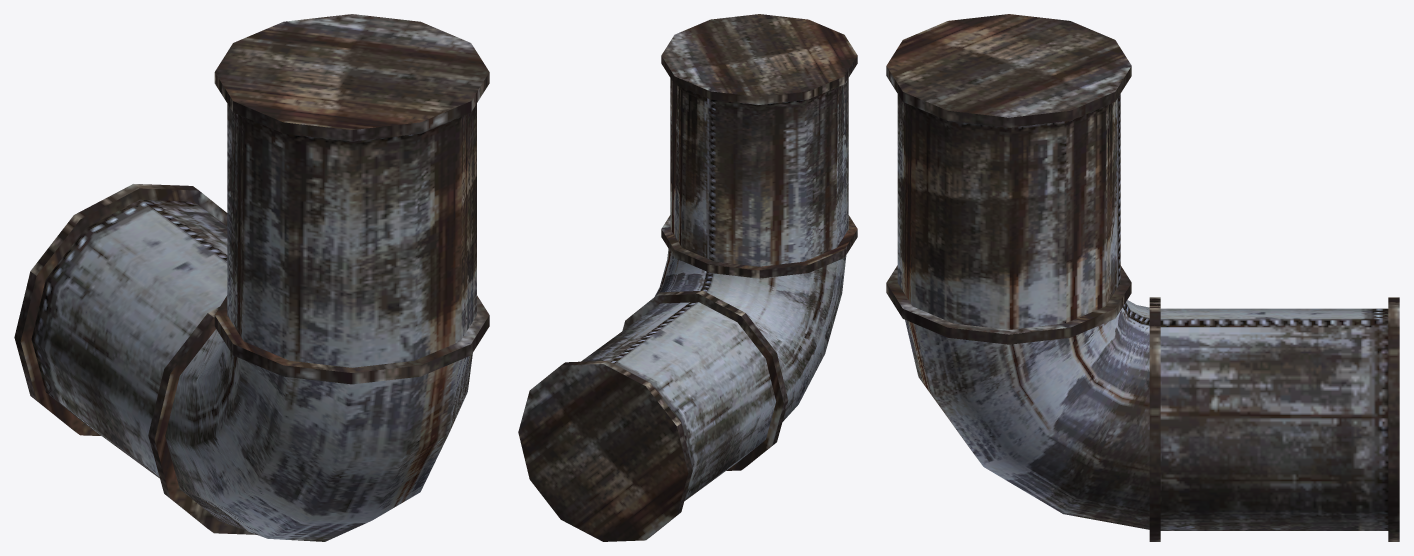
Rendered from ventilation_pipe_elbow.DAE.
3 views of the same model, side by side, from view 1: azimuth 30°, elevation 25°; view 2: azimuth 150°, elevation 25°; view 3: azimuth 270°, elevation 25° (orthographic). The views are drawn at different scales.
Parts seen in each view (by area): view 1: Object018; view 2: Object018; view 3: Object018.
Part boxes in pixels (x1,y1,x2,y2): Object018: [14, 14, 489, 541]; Object018: [518, 14, 857, 541]; Object018: [886, 14, 1399, 541].
Size of the model in its own units: 1.1 by 2.3 by 2.3.
